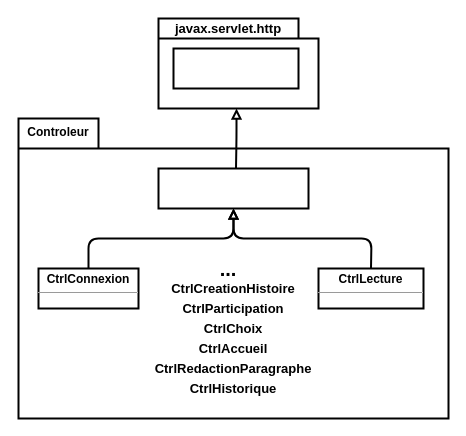
The diagram is 466 pixels wide and 436 high, and some of its shapes have lost their labels. Here are the shapes that lost their labels. From the top down, the centre of each, then its label:
the point at 235,68: HttpServlet
the point at 233,188: AbstractCtrl
